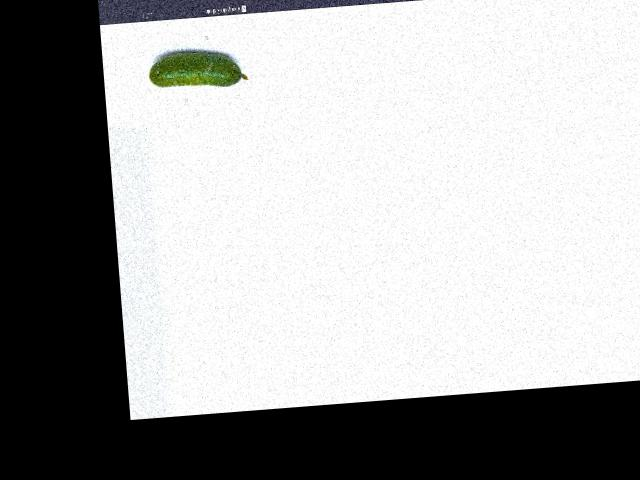cucumber: (146, 47, 248, 92)
